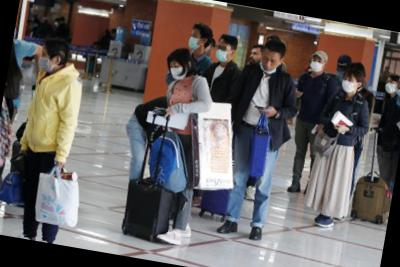mask_weared_incorrect: (260, 53, 280, 77), (396, 79, 400, 100)
with_mask: (36, 48, 56, 75), (214, 41, 234, 65), (168, 60, 188, 83), (341, 74, 358, 95), (308, 57, 326, 76), (188, 31, 203, 52), (384, 79, 400, 96)
without_mask: (247, 48, 264, 66)
